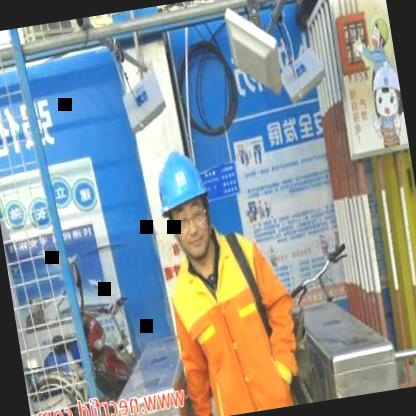helmet: (144, 133, 222, 272)
